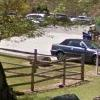Car: (46, 31, 100, 75)
